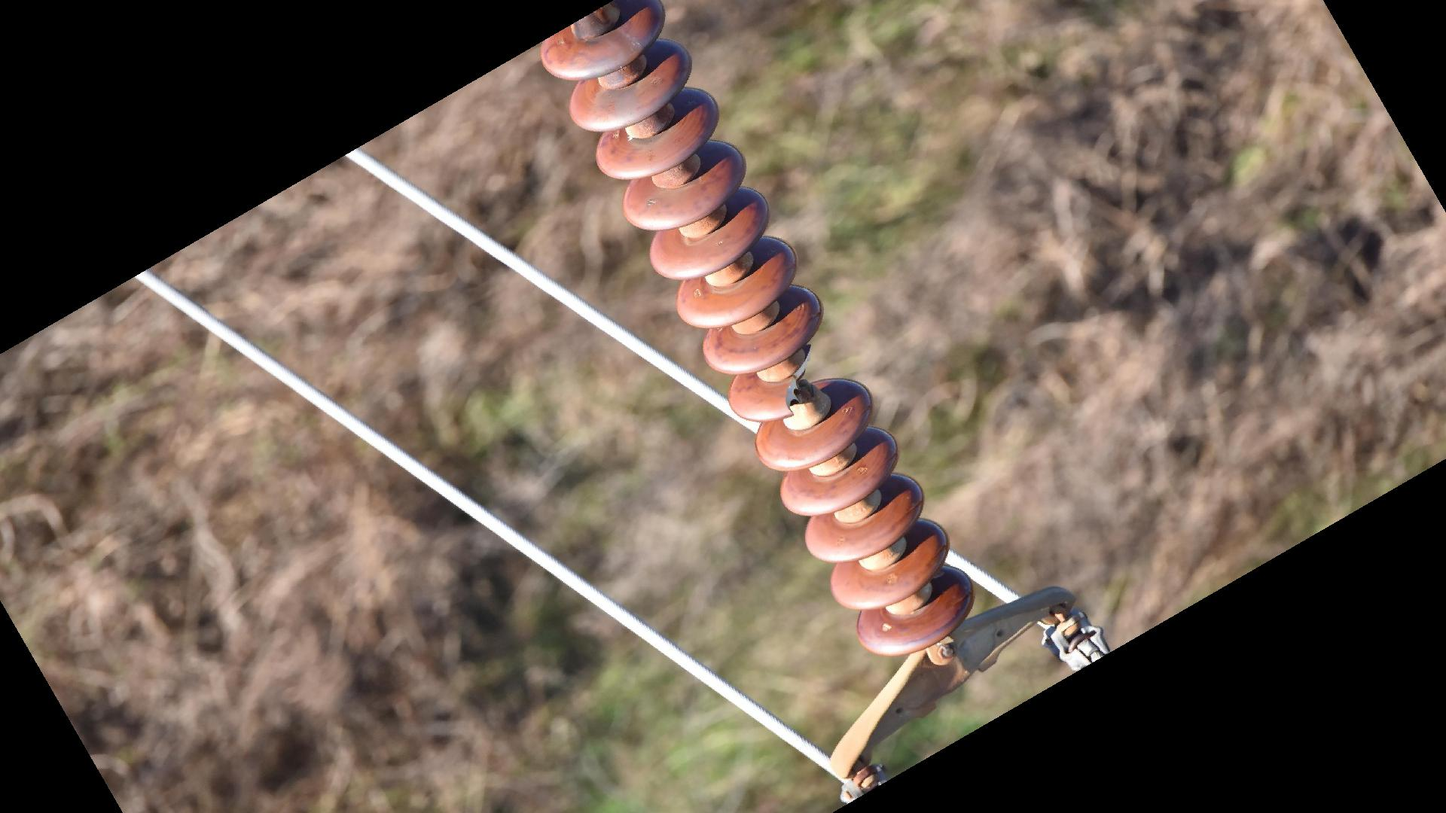insulator: (530, 1, 981, 664)
insulator_breakage: (779, 341, 816, 420)
